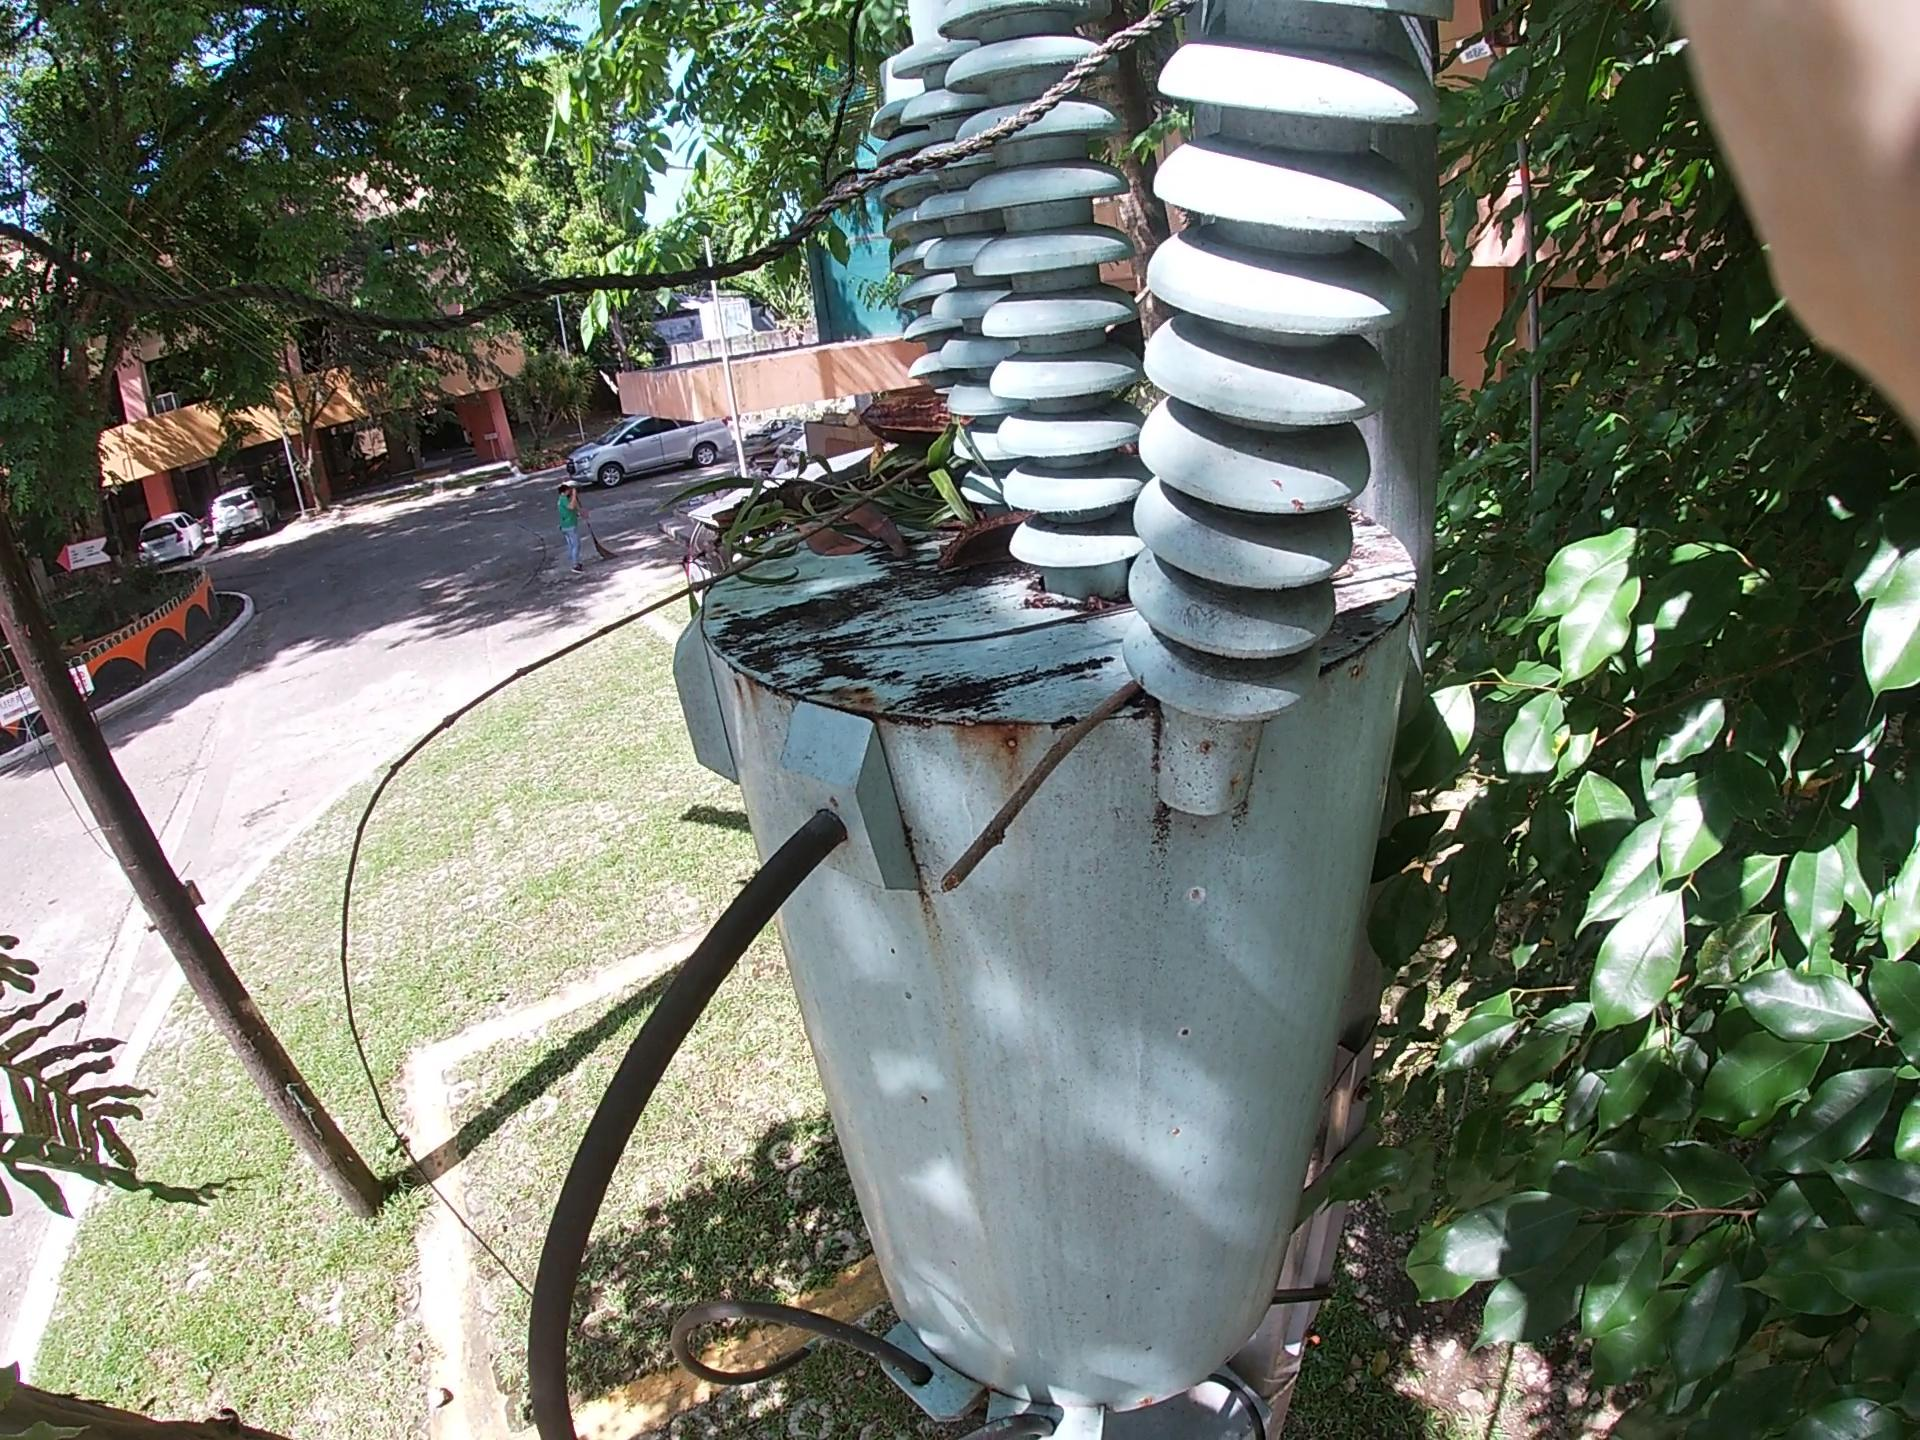branch with leaves: (559, 280, 1028, 607)
leaf: (711, 470, 903, 656)
mahogany fruit: (854, 355, 1037, 473), (909, 489, 1085, 566)
tree branch: (287, 408, 958, 1023), (965, 514, 1252, 911)
